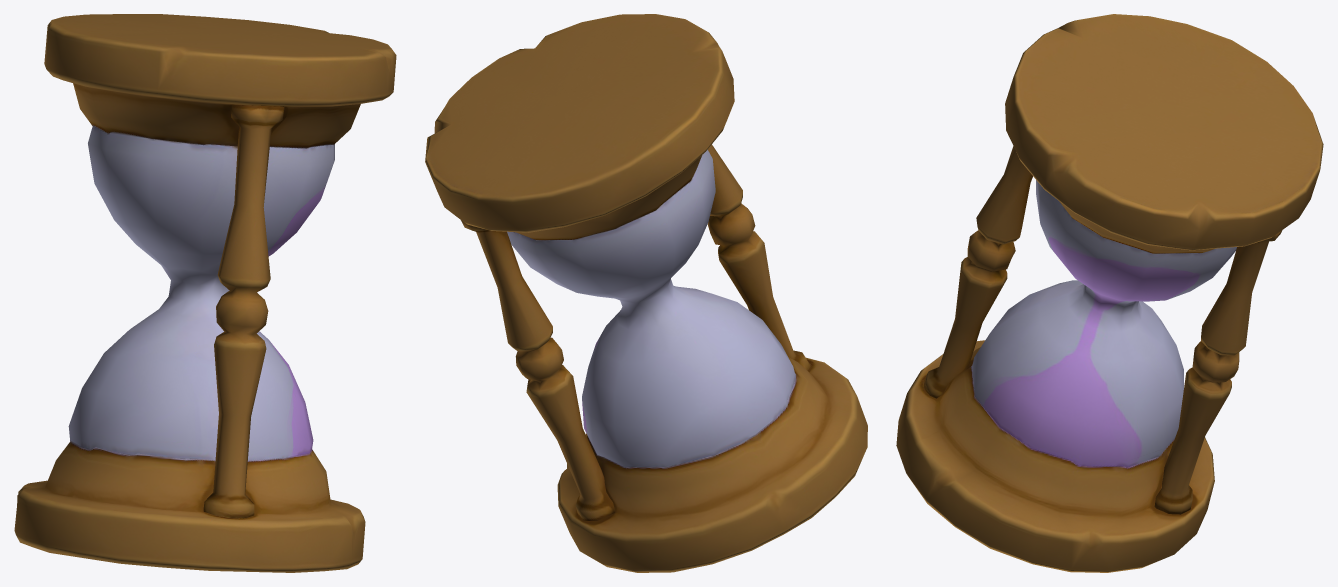
The model's file is power_rush_tripo.glb.
3 renders of one model, left to right at view 1: azimuth 30°, elevation 25°; view 2: azimuth 150°, elevation 25°; view 3: azimuth 270°, elevation 25°, orthographic. The views are drawn at different scales.
Visible parts, largest first — view 1: tripo_node_4571be2c-c1a1-4edc-a563-e2118ad03992; view 2: tripo_node_4571be2c-c1a1-4edc-a563-e2118ad03992; view 3: tripo_node_4571be2c-c1a1-4edc-a563-e2118ad03992.
Part boxes in pixels (left/top/right/bottom): tripo_node_4571be2c-c1a1-4edc-a563-e2118ad03992: left=14, top=14, right=396, bottom=572; tripo_node_4571be2c-c1a1-4edc-a563-e2118ad03992: left=425, top=14, right=867, bottom=572; tripo_node_4571be2c-c1a1-4edc-a563-e2118ad03992: left=896, top=14, right=1323, bottom=572.
Size of the model in its own units: 0.748 by 0.998 by 0.7832.
1 material, 1 textured.
